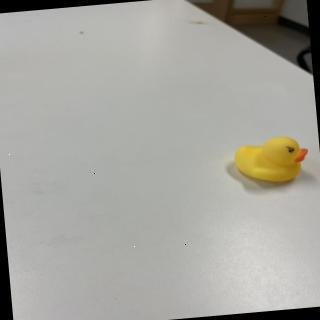duck_regular: (233, 135, 313, 188)
